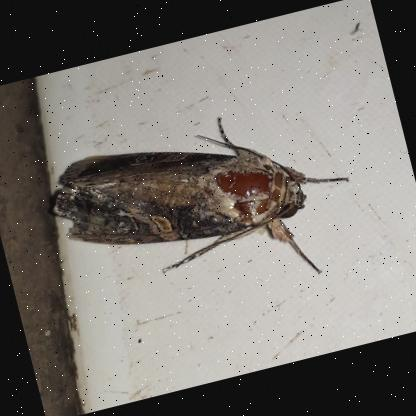Fall Armyworm Moth: (36, 86, 374, 338)
